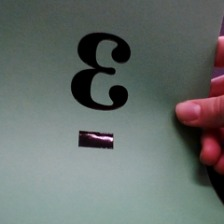green3: (69, 28, 135, 157)
